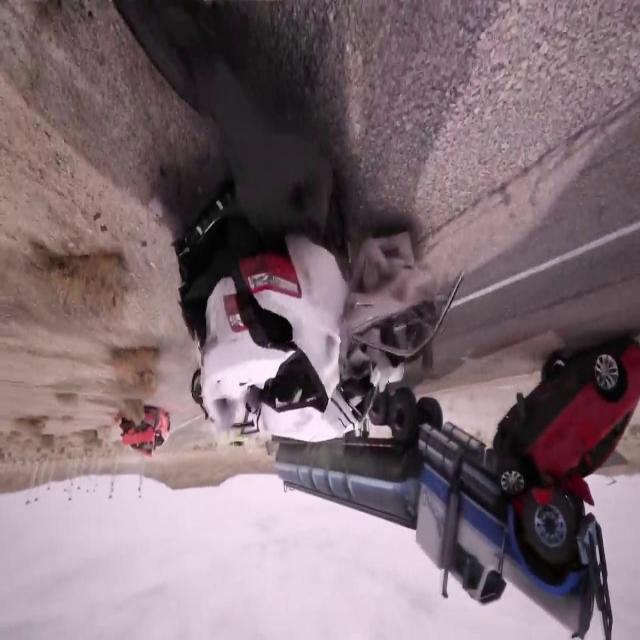severe: (264, 331, 640, 624), (174, 158, 416, 460)
